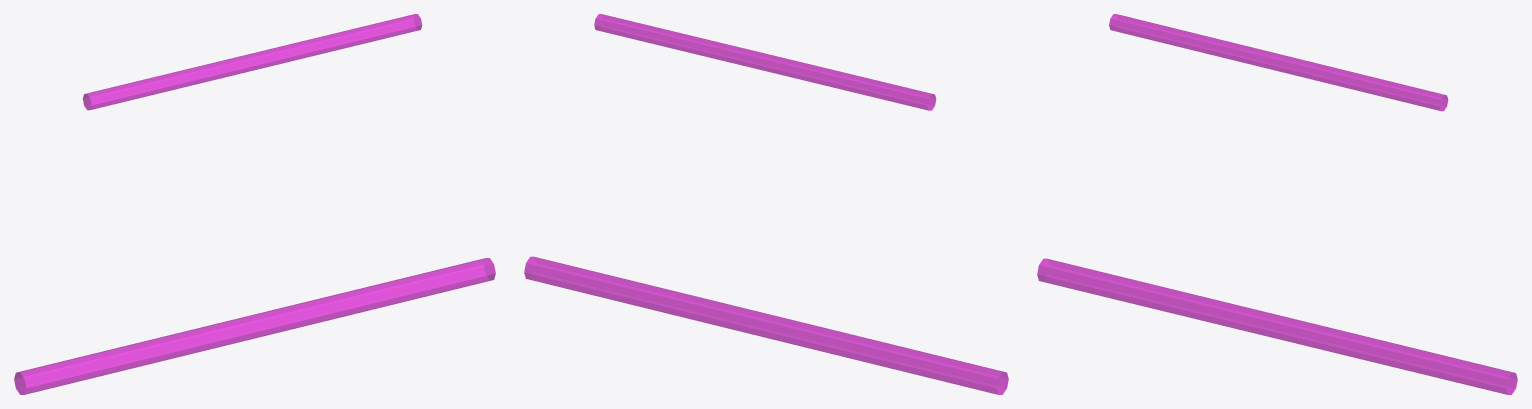
Rendered from SM_Veh_Ship_L_Mast_Back_01_Boom_01_Collision.fbx.
The picture shows the model from 3 angles, left to right: view 1: azimuth 30°, elevation 25°; view 2: azimuth 150°, elevation 25°; view 3: azimuth 330°, elevation 25°; orthographic projection.
Visible parts, largest first — view 1: SM_Veh_Ship_L_Mast_Back_01_Boom_01_Collision; view 2: SM_Veh_Ship_L_Mast_Back_01_Boom_01_Collision; view 3: SM_Veh_Ship_L_Mast_Back_01_Boom_01_Collision.
Part boxes in pixels (box(x1,y1,x2,y2)): SM_Veh_Ship_L_Mast_Back_01_Boom_01_Collision: box(14, 14, 495, 394); SM_Veh_Ship_L_Mast_Back_01_Boom_01_Collision: box(524, 14, 1008, 394); SM_Veh_Ship_L_Mast_Back_01_Boom_01_Collision: box(1037, 14, 1517, 394).
Bounding box in the file's own units: 1430 × 824 × 65.94.
